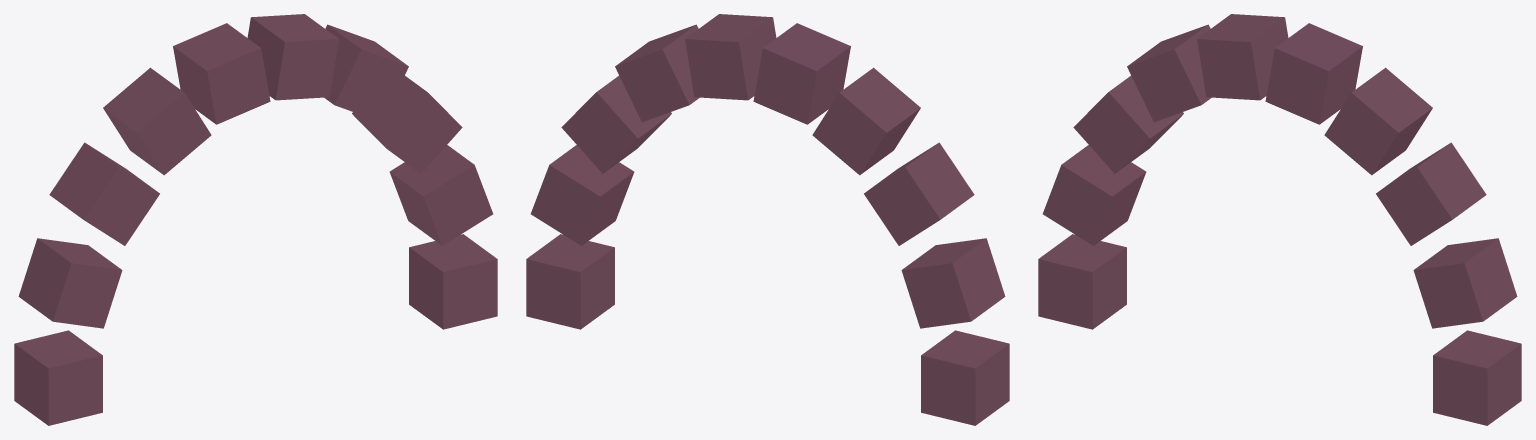
The model's file is land-arch-01.glb.
3 views of the same model, side by side, from view 1: azimuth 30°, elevation 25°; view 2: azimuth 150°, elevation 25°; view 3: azimuth 330°, elevation 25° (orthographic).
Parts seen in each view (by area): view 1: arch_0, arch_9, arch_4, arch_1, arch_3, arch_8, arch_5, arch_2, arch_7, arch_6; view 2: arch_0, arch_9, arch_4, arch_1, arch_3, arch_8, arch_5, arch_2, arch_7, arch_6; view 3: arch_9, arch_0, arch_5, arch_8, arch_6, arch_1, arch_4, arch_7, arch_2, arch_3.
Part boxes in pixels (x1,y1,x2,y2): arch_0: [14, 330, 102, 425]; arch_9: [409, 234, 497, 329]; arch_4: [173, 23, 270, 124]; arch_1: [18, 238, 122, 328]; arch_3: [103, 67, 211, 175]; arch_8: [389, 145, 493, 245]; arch_5: [247, 14, 338, 100]; arch_2: [49, 142, 159, 245]; arch_7: [352, 75, 462, 173]; arch_6: [324, 24, 408, 122]; arch_0: [921, 330, 1009, 425]; arch_9: [526, 234, 614, 329]; arch_4: [753, 23, 850, 124]; arch_1: [901, 238, 1005, 328]; arch_3: [812, 67, 920, 175]; arch_8: [530, 145, 634, 245]; arch_5: [685, 14, 776, 100]; arch_2: [864, 142, 974, 245]; arch_7: [561, 75, 671, 173]; arch_6: [615, 24, 699, 122]; arch_9: [1433, 330, 1521, 425]; arch_0: [1038, 234, 1126, 329]; arch_5: [1265, 23, 1362, 124]; arch_8: [1413, 238, 1517, 328]; arch_6: [1324, 67, 1432, 175]; arch_1: [1042, 145, 1146, 245]; arch_4: [1197, 14, 1288, 100]; arch_7: [1376, 142, 1486, 245]; arch_2: [1073, 75, 1183, 173]; arch_3: [1127, 24, 1211, 122].
Size of the model in its own units: 45.5 by 31.57 by 6.
